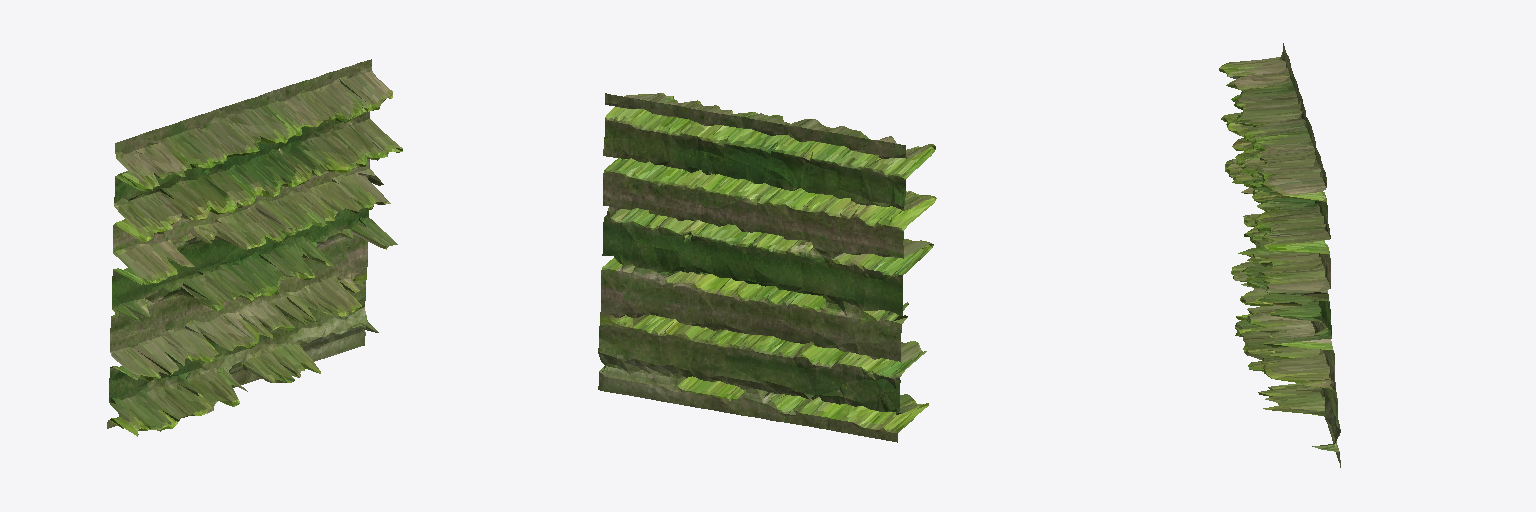
The picture shows the model from 3 angles: view 1: azimuth 30°, elevation 25°; view 2: azimuth 150°, elevation 25°; view 3: azimuth 270°, elevation 25°; orthographic projection.
Visible parts, largest first — view 1: grp1; view 2: grp1; view 3: grp1.
Boxes of the visible parts, box(x1,y1,x2,y2) form: grp1: box(107, 59, 402, 436); grp1: box(598, 93, 936, 442); grp1: box(1219, 43, 1340, 467).
Size of the model in its own units: 10 by 10 by 3.8.
Materials: 1 (1 with a texture image).